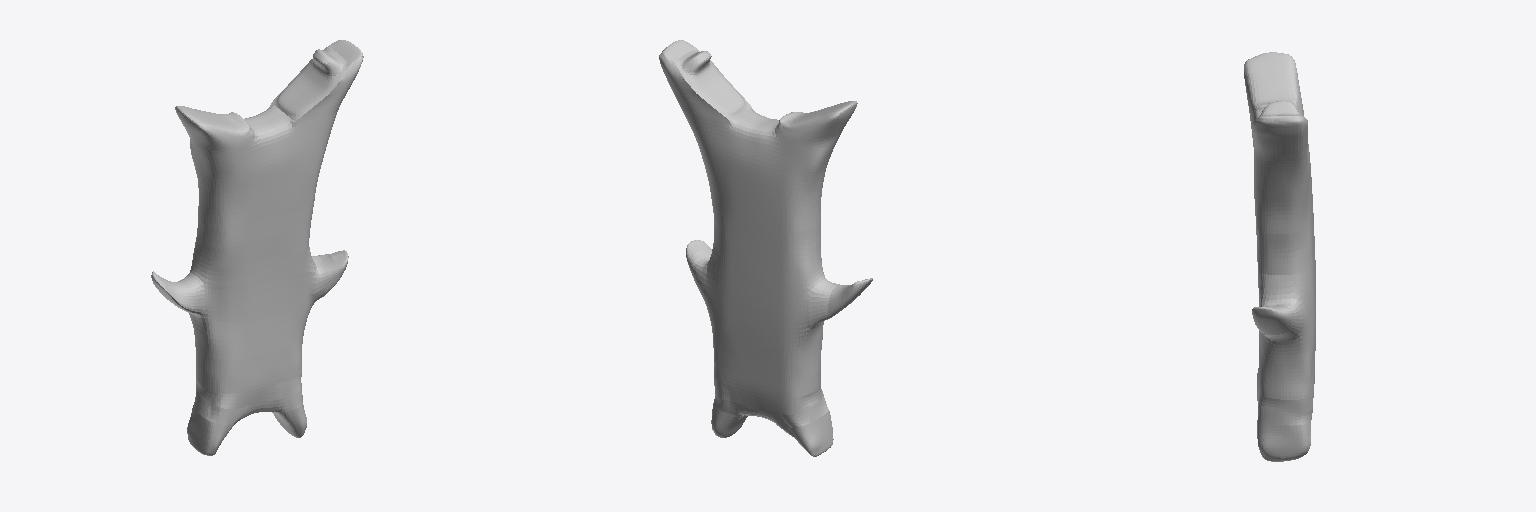
File: korok12.obj
The picture shows the model from 3 angles: view 1: azimuth 30°, elevation 25°; view 2: azimuth 150°, elevation 25°; view 3: azimuth 270°, elevation 25°; orthographic projection.
Parts seen in each view (by area): view 1: Plane; view 2: Plane; view 3: Plane.
Part boxes in pixels (left/top/right/bottom): Plane: left=151, top=40, right=363, bottom=455; Plane: left=659, top=40, right=872, bottom=456; Plane: left=1244, top=52, right=1315, bottom=461.
Size of the model in its own units: 1.02 by 1.82 by 0.3209.